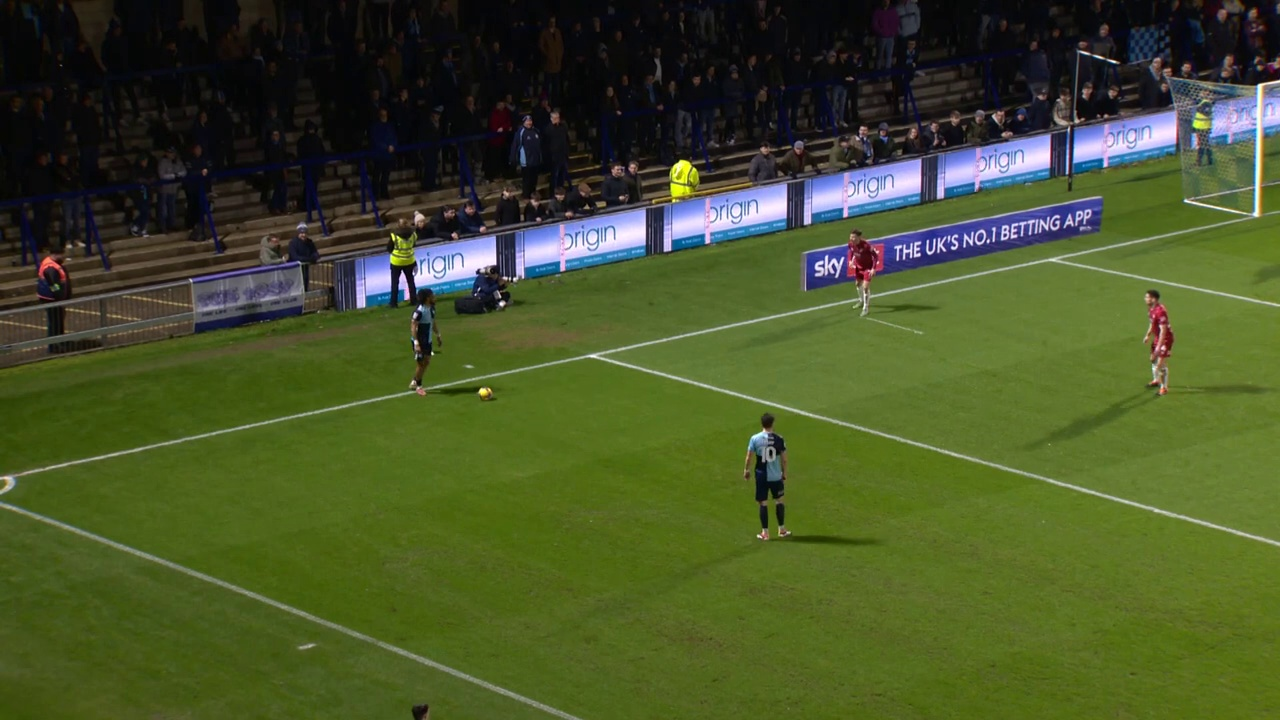ball: (362, 394, 385, 417)
